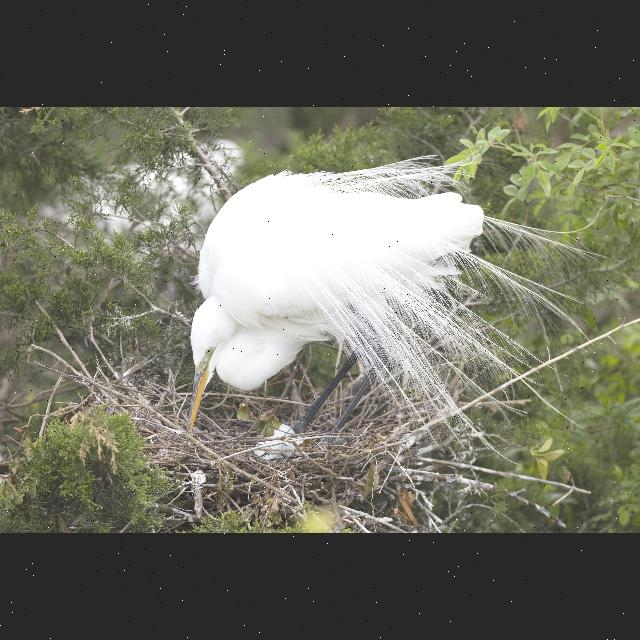egret: (184, 150, 542, 462)
